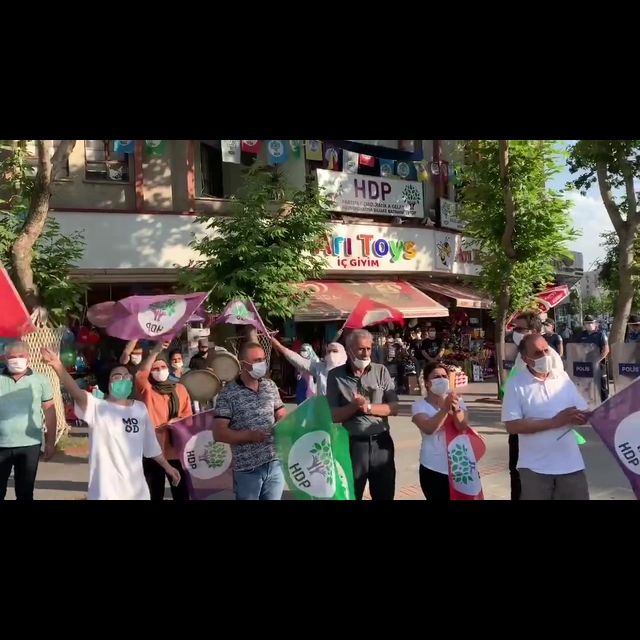HDP: (307, 429, 336, 492), (201, 435, 228, 477)
